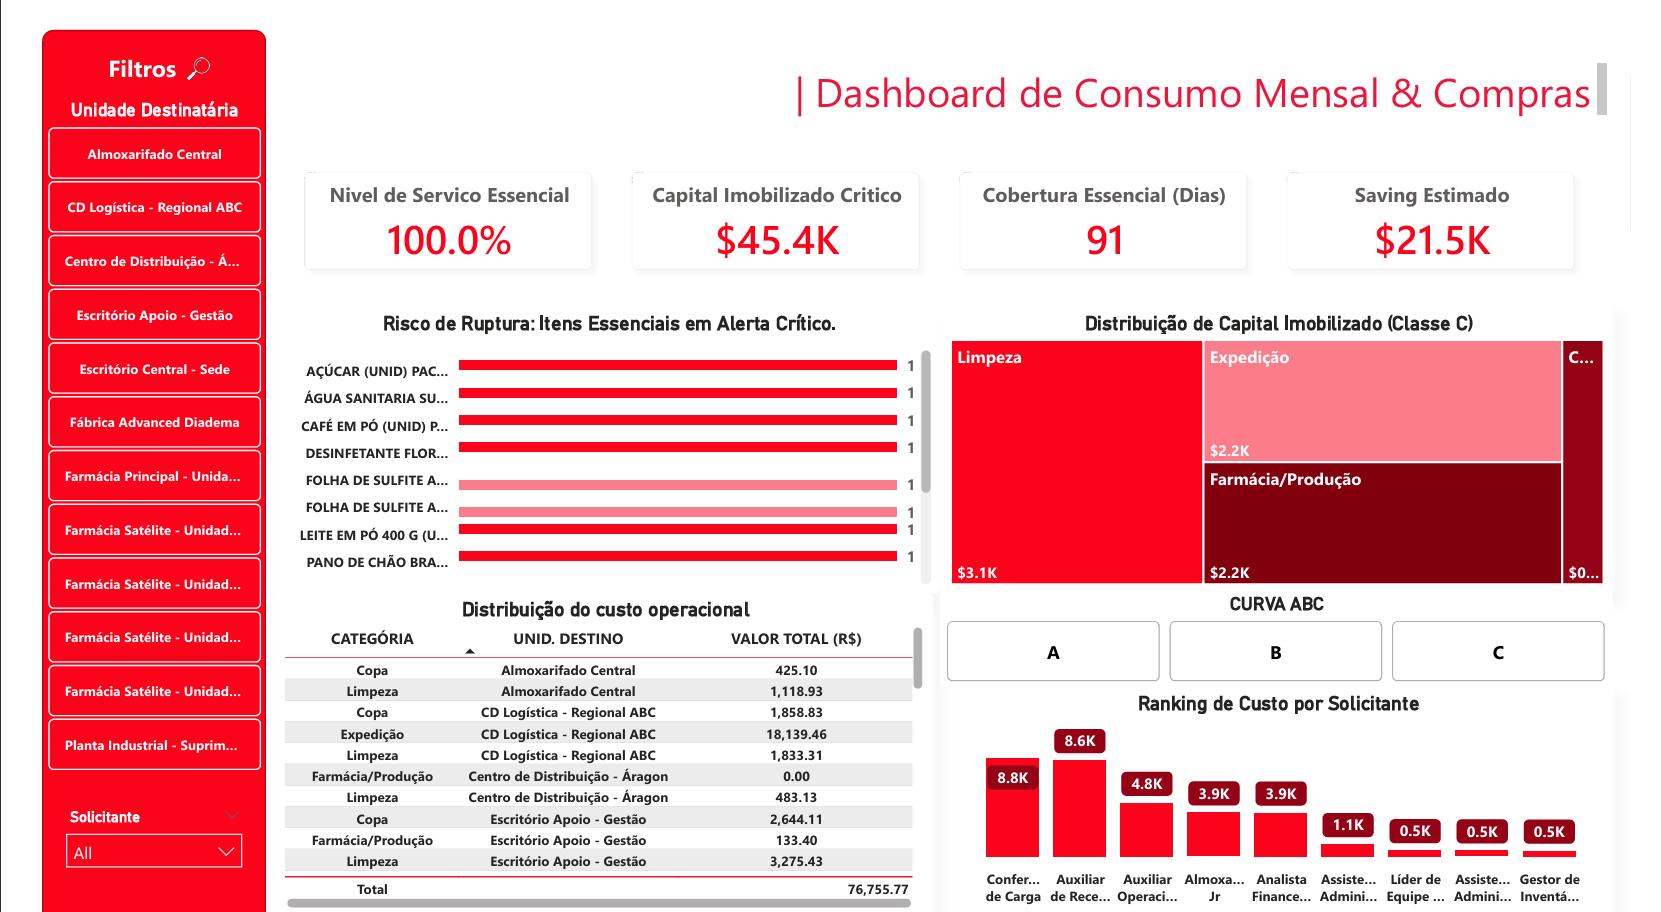

What the dashboard file says about the page in this screenshot:
{"tool":"powerbi","page":{"name":"Dashboard","canvas":[1280,720],"ordinal":0},"visuals":[{"type":"textbox","box":[605.5,21.6,660.3,51.9],"z":0},{"type":"clusteredBarChart","title":"Risco de Ruptura: Itens Essenciais em Alerta Crítico.","fields":{"Category":["TBSuprimentos.DESCRIÇÃO"],"Series":["TBSuprimentos.STATUS COMPRA"],"Y":["CountNonNull(TBSuprimentos.SUGESTÃO QTDE )"]},"box":[194.6,222,533.5,229.2],"z":1000},{"type":"treemap","title":"Distribuição de Capital Imobilizado (Classe C)","fields":{"Group":["TBEstoque.CATEGÓRIA"],"Values":["TBEstoque.Capital Imobilizado Critico"]},"box":[728.1,222,537.8,229.2],"z":2000},{"type":"clusteredColumnChart","title":"Ranking de Custo por Solicitante","fields":{"Category":["TBConsumo.SOLICITANTE"],"Y":["Sum(TBConsumo.VALOR TOTAL (R$))"]},"box":[728.1,526.2,537.8,184.5],"z":3000},{"type":"tableEx","title":"Distribuição do custo operacional","fields":{"Values":["TBConsumo.CATEGÓRIA","TBConsumo.UNID. DESTINO","Sum(TBConsumo.VALOR TOTAL (R$))"]},"box":[194.6,451.3,527.7,259.5],"z":4000},{"type":"shape","box":[9.2,0,179.1,720.4],"z":5000},{"type":"textbox","box":[54.8,13,67.8,37.5],"z":6000},{"type":"image","box":[122.6,21.6,21.6,18.7],"z":7000},{"type":"advancedSlicerVisual","title":"Unidade Destinatária","fields":{"Values":["TBConsumo.UNID. DESTINO"]},"box":[9.2,56.2,180,549.1],"z":8000},{"type":"slicer","fields":{"Values":["TBConsumo.SOLICITANTE"]},"box":[18.3,618.4,160.8,69.3],"z":9000},{"type":"cardVisual","fields":{"Data":["TBEstoque.Nivel de Servico Essencial %","TBEstoque.Capital Imobilizado Critico","TBEstoque.Cobertura Essencial (Dias)","TBEstoque.Saving Estimado"]},"box":[190.3,85.1,1075.6,137],"z":10000},{"type":"advancedSlicerVisual","fields":{"Values":["TBEstoque.CURVA ABC"]},"box":[728.1,451.3,537.8,75],"z":11000}]}

Visuals, with their boxes in screenshot pixels (x1, y1, x2, y2), scaled from the page's 1280x720 canvas onto the 1661x912 screenshot:
textbox: 786, 27, 1643, 93
"Risco de Ruptura: Itens Essenciais em Alerta Crítico." clusteredBarChart: 253, 281, 945, 572
"Distribuição de Capital Imobilizado (Classe C)" treemap: 945, 281, 1643, 572
"Ranking de Custo por Solicitante" clusteredColumnChart: 945, 667, 1643, 900
"Distribuição do custo operacional" tableEx: 253, 572, 937, 900
shape: 12, 0, 244, 911
textbox: 71, 16, 159, 64
image: 159, 27, 187, 51
"Unidade Destinatária" advancedSlicerVisual: 12, 71, 246, 767
slicer - TBConsumo.SOLICITANTE: 24, 783, 232, 871
cardVisual - TBEstoque.Nivel de Servico Essencial % x TBEstoque.Capital Imobilizado Critico: 247, 108, 1643, 281
advancedSlicerVisual - TBEstoque.CURVA ABC: 945, 572, 1643, 667
